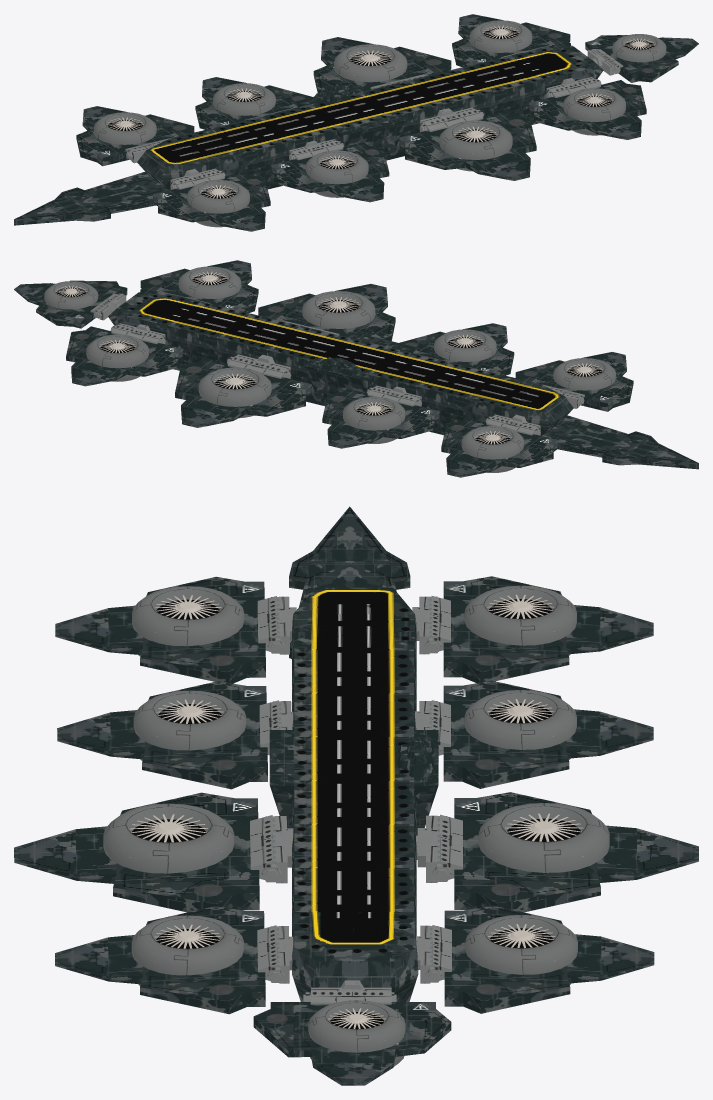
Rendered from sky-cruiser.glb.
3 views of the same model, one above another, from view 1: azimuth 30°, elevation 25°; view 2: azimuth 150°, elevation 25°; view 3: azimuth 270°, elevation 25° (orthographic). The views are drawn at different scales.
Visible parts, largest first — view 1: root; view 2: root; view 3: root.
Boxes of the visible parts, box(x1,y1,x2,y2) form: root: box(14, 14, 698, 231); root: box(14, 260, 698, 477); root: box(14, 506, 698, 1085).
Bounding box in the file's own units: 60 × 4.83 × 29.06.
Materials: 1 (1 with a texture image).
